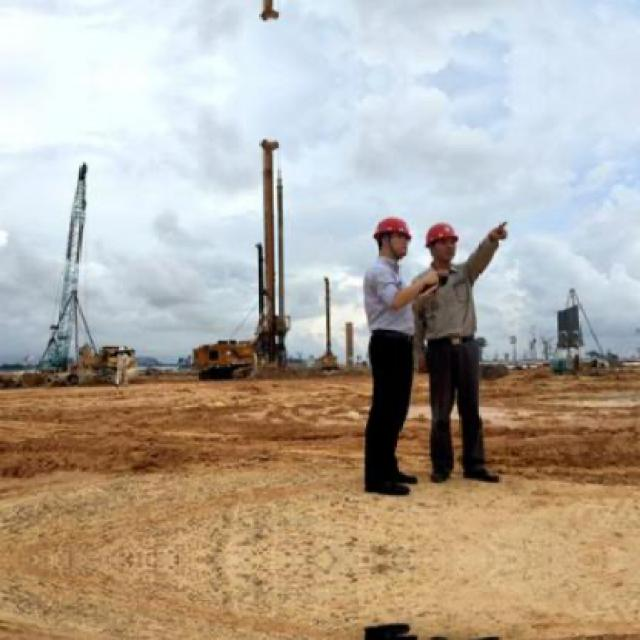helmet: (369, 207, 417, 262), (423, 213, 460, 273)
